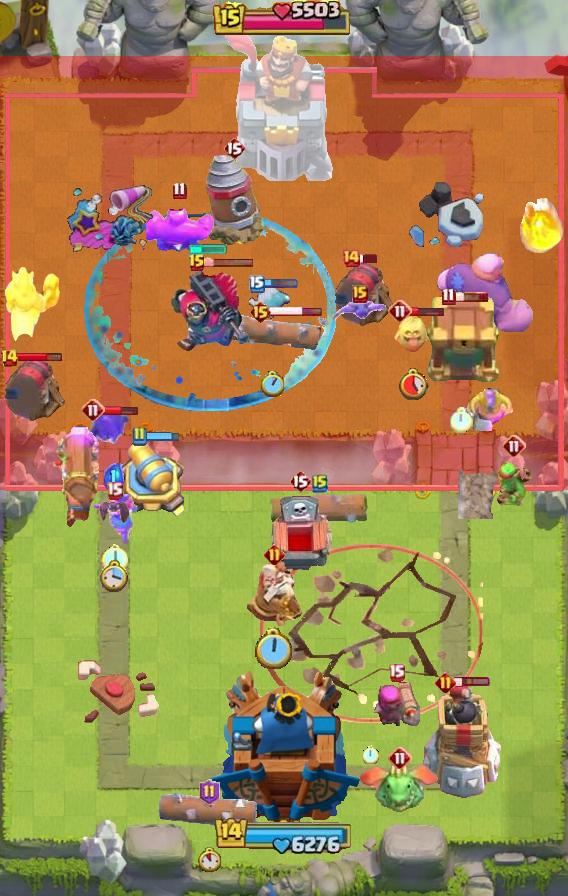balloon: (434, 251, 536, 351)
barbarian: (331, 298, 389, 326)
barbarian-barrel: (97, 495, 131, 525)
bat: (246, 286, 290, 324)
bat-evolution: (392, 316, 434, 354)
battle-healer: (54, 426, 100, 530)
bomb: (422, 296, 500, 384)
clock: (214, 815, 354, 855), (213, 0, 355, 38)
electro-spirit: (104, 462, 124, 490)
electro-wizard: (359, 760, 441, 814)
elixir: (254, 627, 293, 672), (397, 367, 429, 400), (100, 558, 130, 592), (100, 543, 127, 573), (260, 371, 284, 397), (450, 407, 473, 433), (198, 847, 221, 872), (363, 745, 379, 763)
elixir-collector: (244, 556, 304, 626)
elixir-golem-mid: (265, 495, 335, 581)
emote: (269, 306, 323, 317), (9, 353, 62, 364), (203, 257, 255, 268), (454, 676, 491, 688), (453, 291, 489, 303), (410, 305, 446, 317), (263, 278, 299, 289), (103, 404, 139, 415), (145, 430, 181, 441), (359, 252, 379, 263)
fisherman: (457, 469, 497, 519)
freeze: (0, 263, 60, 347)
giant-snowball: (493, 459, 535, 509)
goblin-giant: (465, 388, 515, 431)
guard: (261, 544, 484, 723)
hog-rider: (91, 492, 139, 546)
ice-spirit: (188, 242, 230, 254)
inferno-tower: (168, 266, 250, 354)
king-tower: (207, 669, 361, 826), (223, 31, 345, 181)
magic-archer: (204, 152, 264, 246)
minion: (158, 793, 260, 829), (223, 315, 321, 351), (269, 492, 371, 526)
pad_0: (82, 209, 336, 411)
royal-giant-evolution: (330, 259, 398, 329), (0, 354, 68, 424)
royal-recruit: (111, 434, 189, 524)
spear-goblin: (89, 407, 131, 447)
text: (388, 299, 412, 323), (81, 398, 105, 422), (502, 434, 526, 458), (388, 746, 412, 770), (248, 300, 271, 324), (199, 779, 220, 805), (223, 136, 245, 160), (289, 469, 311, 493), (263, 544, 284, 565), (435, 672, 456, 693), (341, 248, 361, 268), (1, 348, 20, 368), (188, 253, 206, 273), (387, 663, 405, 681), (131, 426, 147, 446), (312, 473, 328, 493), (105, 481, 122, 499), (249, 275, 265, 293), (352, 285, 368, 303), (172, 181, 187, 200), (440, 287, 455, 305)
tombstone: (372, 676, 420, 732)
tornado: (143, 205, 215, 255)
valkyrie: (515, 190, 565, 256)
zappy: (419, 680, 505, 800)
